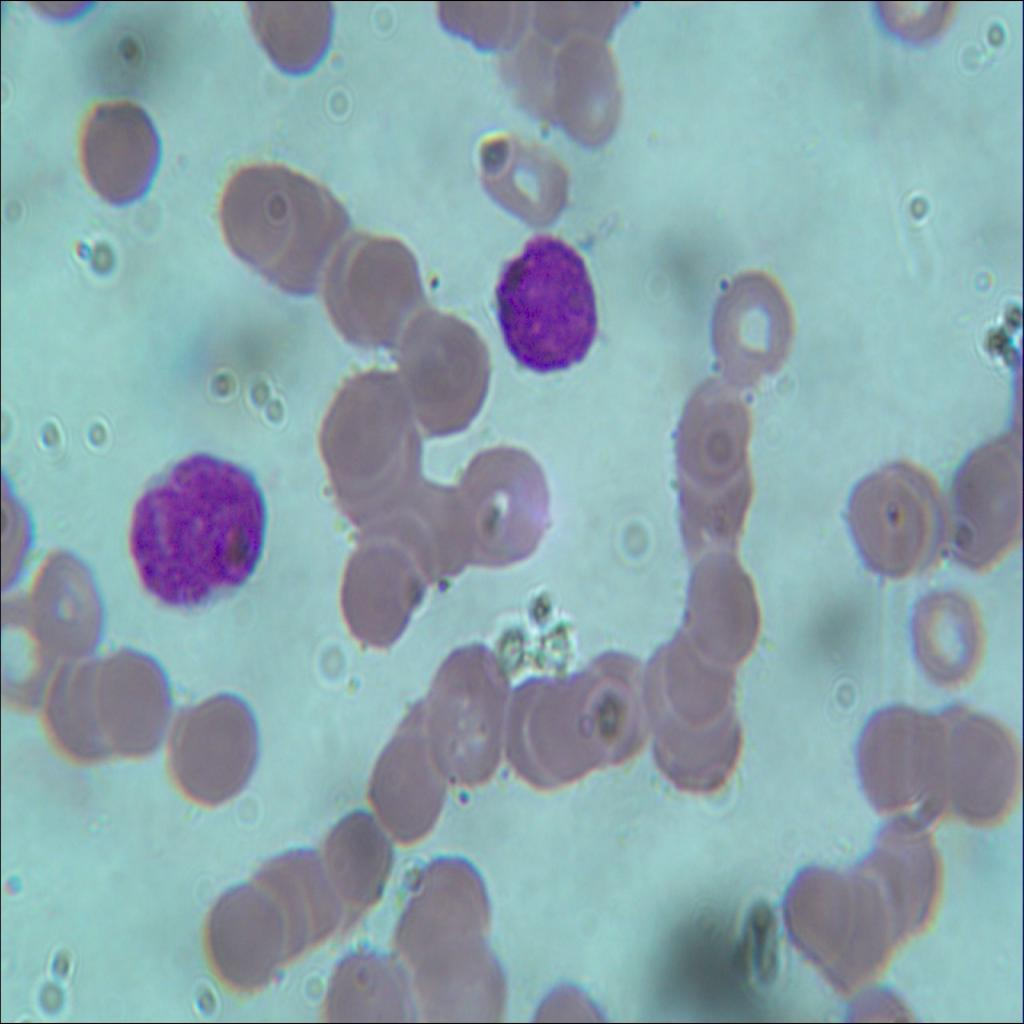Eritrosit: (775, 858, 891, 992), (646, 635, 748, 787), (850, 447, 949, 591), (424, 634, 513, 794), (938, 424, 1023, 568), (66, 95, 174, 205), (388, 305, 493, 418), (170, 680, 260, 808), (338, 530, 428, 654), (931, 694, 1023, 812), (314, 225, 402, 348), (249, 175, 341, 292), (461, 442, 546, 568), (491, 661, 568, 799), (851, 808, 936, 930), (401, 855, 489, 972), (316, 360, 404, 477), (703, 268, 794, 381), (851, 702, 941, 814), (366, 719, 446, 842), (86, 644, 168, 762), (668, 371, 753, 484), (254, 848, 346, 951), (564, 651, 655, 755), (479, 130, 575, 228), (389, 468, 470, 584), (209, 877, 291, 991), (496, 0, 569, 128), (546, 25, 622, 145), (33, 657, 115, 768), (224, 159, 301, 277), (681, 552, 761, 664), (522, 666, 600, 778), (26, 548, 106, 657), (908, 584, 988, 690), (415, 927, 503, 1023), (661, 447, 749, 542), (0, 594, 61, 724), (334, 438, 416, 532), (319, 804, 391, 911), (659, 627, 734, 721)
Limfoblast: (129, 454, 266, 612), (491, 237, 596, 375)
Platelet: (424, 264, 448, 301), (426, 572, 456, 600), (708, 269, 734, 301), (446, 782, 472, 807)
